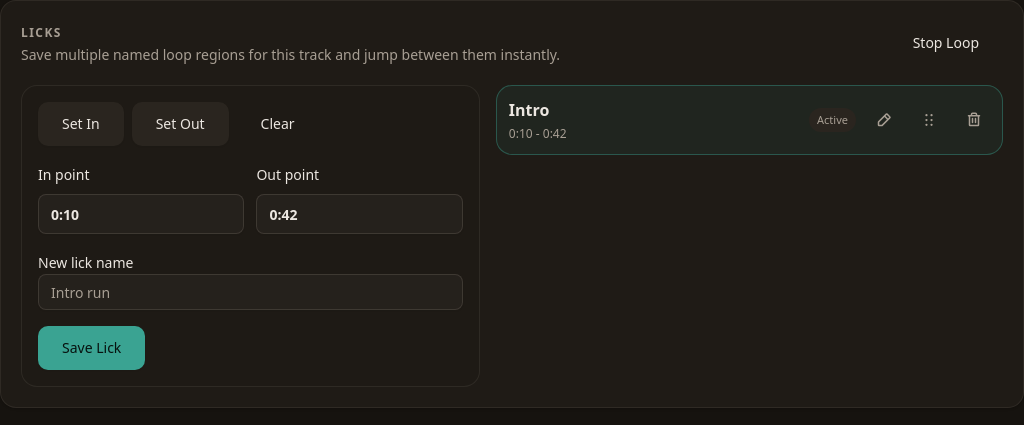
Scenario: LickPanel › deletes the active lick and clears the loaded loop
Click the button named "Delete Intro".
click(974, 120)  # box x1=958 y1=104 x2=990 y2=136
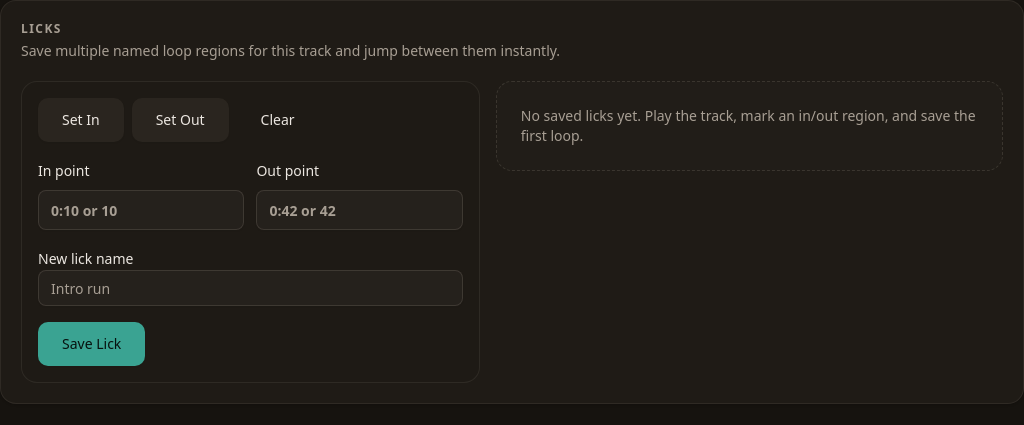
Expected: the button "Stop Loop" is gone
